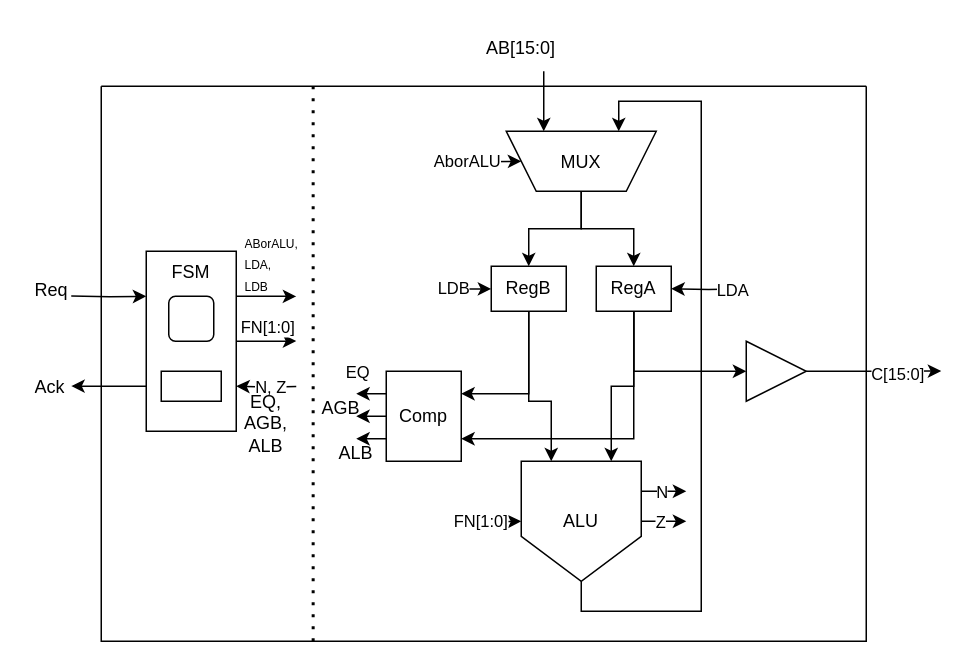
The diagram is 980 pixels wide and 669 high, and some of its shapes have lost their labels. The box of each missing label's shape, as (x1, y1, x2, y2) in pixels:
CL: (167, 295, 214, 341)
State: (160, 370, 221, 401)
